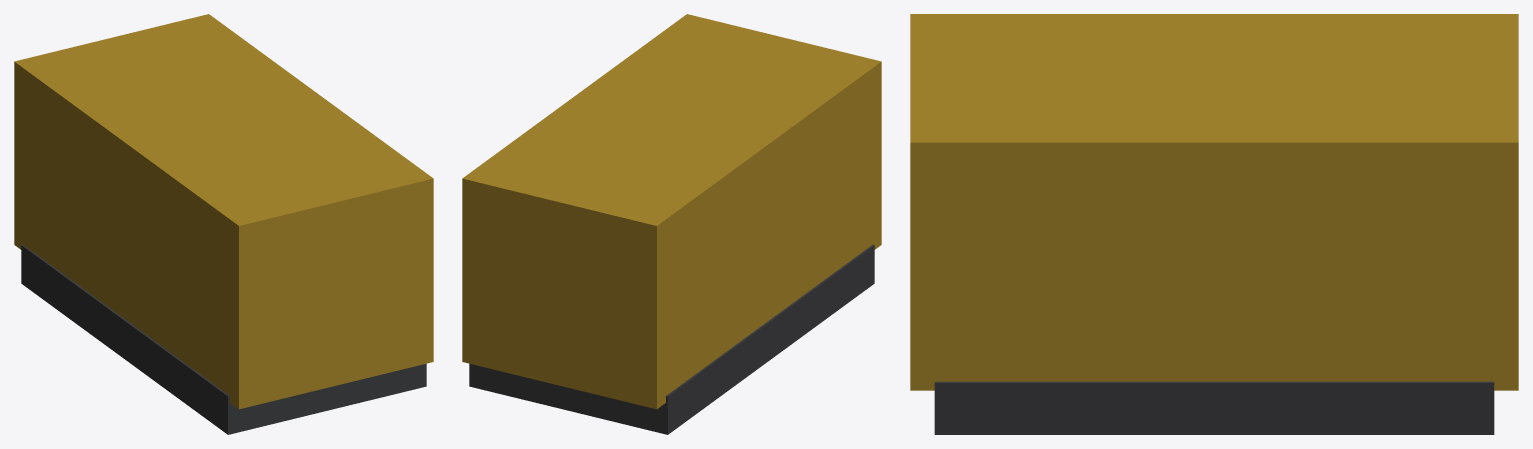
File: sdsc_gse_airstart.glb
The picture shows the model from 3 angles, left to right: view 1: azimuth 30°, elevation 25°; view 2: azimuth 150°, elevation 25°; view 3: azimuth 270°, elevation 25°; orthographic projection. The views are drawn at different scales.
Parts seen in each view (by area): view 1: sdsc_gse_airstart; view 2: sdsc_gse_airstart; view 3: sdsc_gse_airstart.
Part boxes in pixels (x1=…): sdsc_gse_airstart: x1=14, y1=14, x2=433, y2=434; sdsc_gse_airstart: x1=462, y1=14, x2=881, y2=434; sdsc_gse_airstart: x1=910, y1=14, x2=1518, y2=434.
Bounding box in the file's own units: 1.84 × 1.9 × 3.6.
